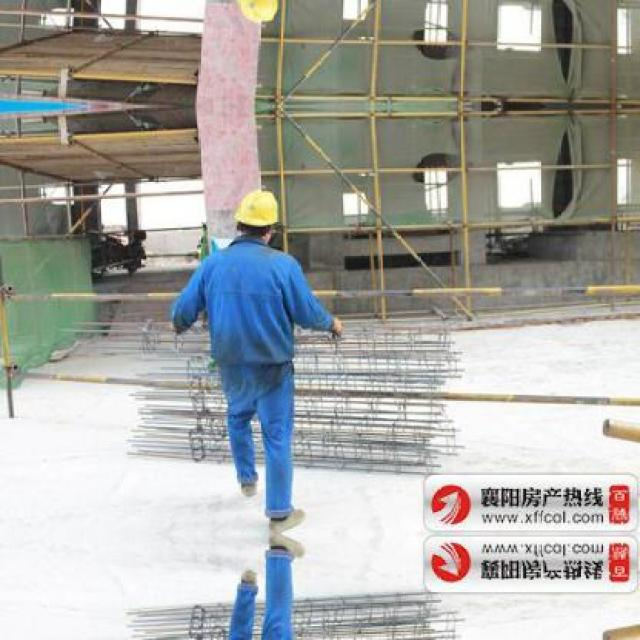helmet: (229, 186, 282, 244), (229, 0, 283, 26)
